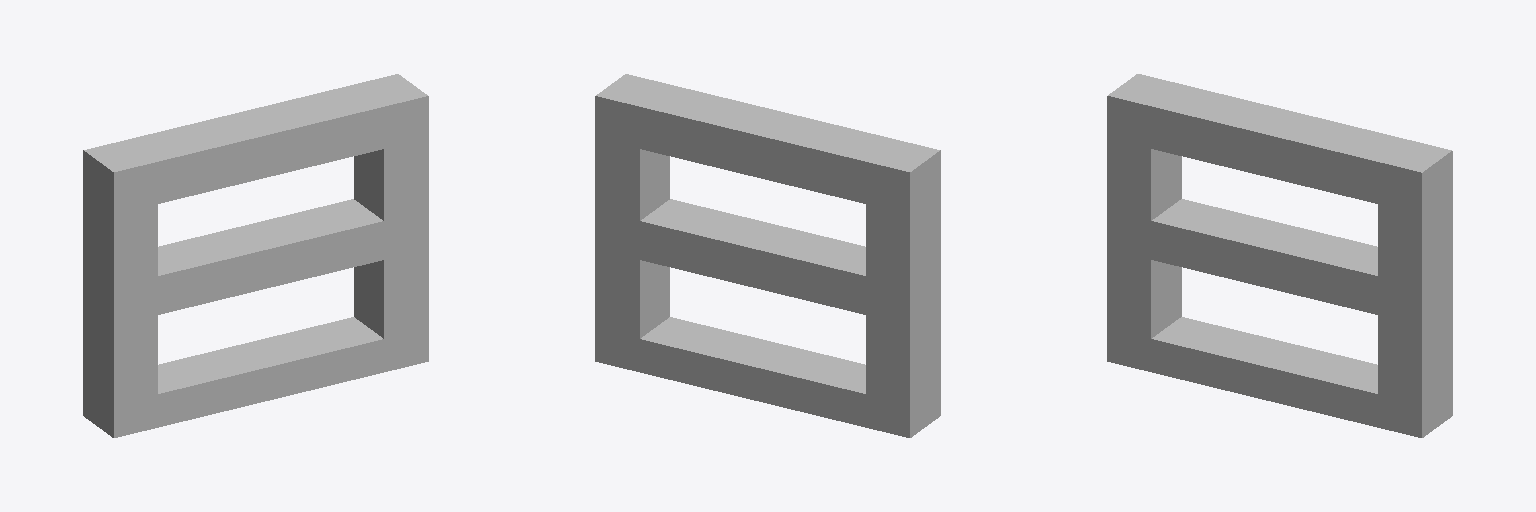
The model's file is eight.obj.
The picture shows the model from 3 angles: view 1: azimuth 30°, elevation 25°; view 2: azimuth 150°, elevation 25°; view 3: azimuth 330°, elevation 25°; orthographic projection.
Parts seen in each view (by area): view 1: Cube.006_Cube.007; view 2: Cube.006_Cube.007; view 3: Cube.006_Cube.007.
Boxes of the visible parts, <box> form: Cube.006_Cube.007: <box>83,74,428,437</box>; Cube.006_Cube.007: <box>595,74,940,437</box>; Cube.006_Cube.007: <box>1107,74,1452,437</box>.
Size of the model in its own units: 0.5993 by 0.4841 by 0.1.